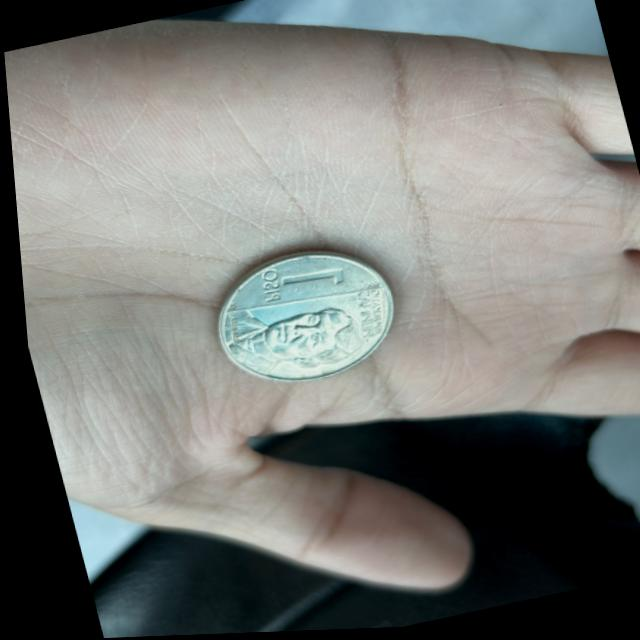1_New_Front: (241, 249, 345, 313)
